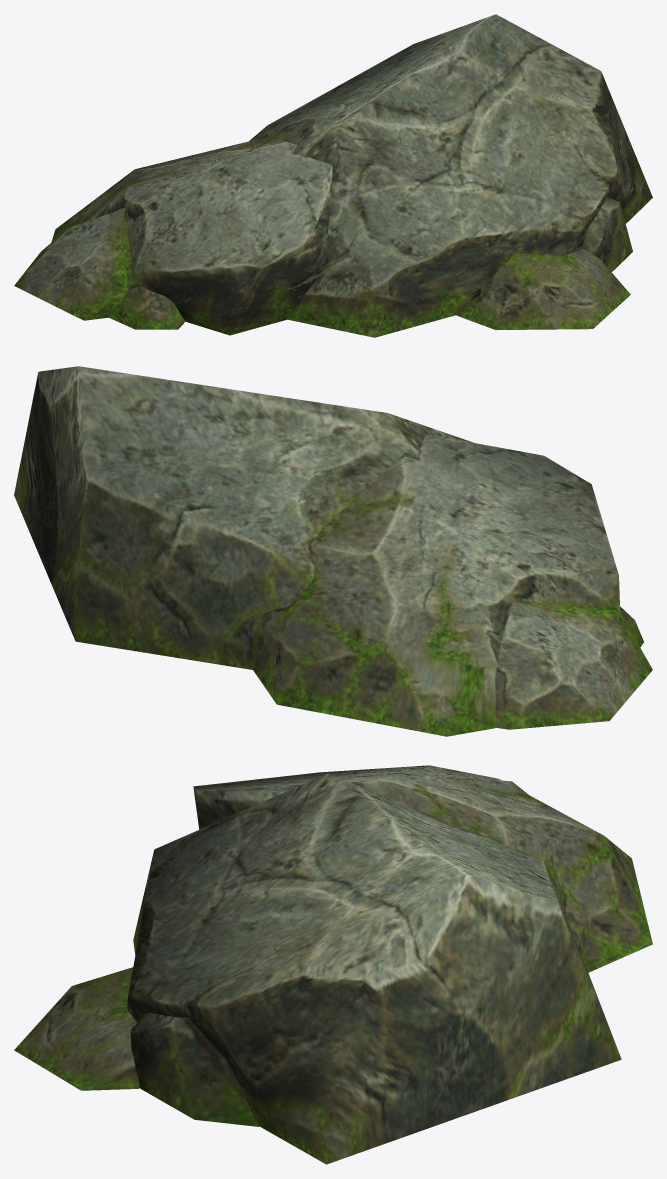
File: Utility_Stone_Maincity03_03_LOD2.FBX
The picture shows the model from 3 angles, top to bottom: view 1: azimuth 30°, elevation 25°; view 2: azimuth 150°, elevation 25°; view 3: azimuth 270°, elevation 25°; orthographic projection. The views are drawn at different scales.
Visible parts, largest first — view 1: cmc_shitou03_LOD2; view 2: cmc_shitou03_LOD2; view 3: cmc_shitou03_LOD2.
Boxes of the visible parts, box(x1,y1,x2,y2) form: cmc_shitou03_LOD2: box(14, 14, 652, 337); cmc_shitou03_LOD2: box(14, 366, 652, 736); cmc_shitou03_LOD2: box(14, 765, 652, 1164).
Bounding box in the file's own units: 441 × 127 × 328.
